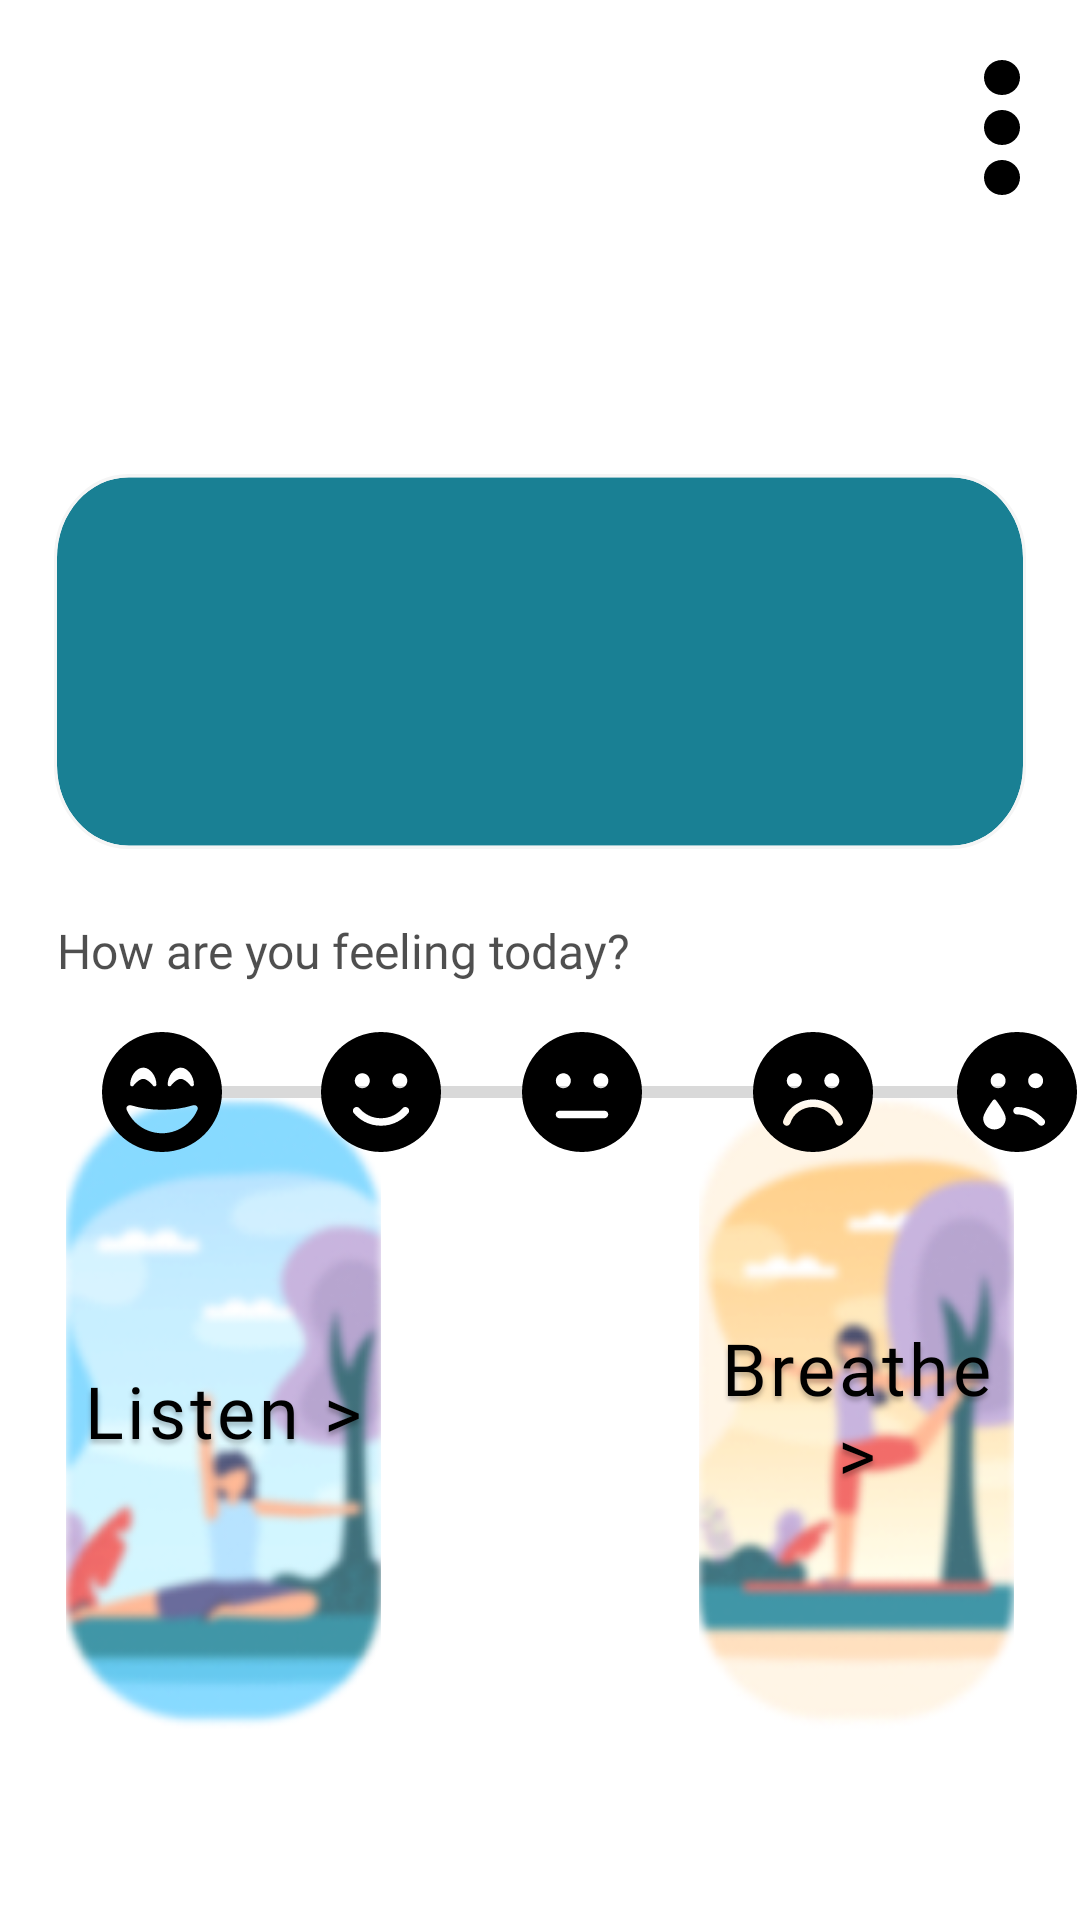

Named icons in this screenshot (1080w x 1920h) and their centers, point (x, y):
depressed emoji: point (1017, 1092)
happy emoji: point (381, 1092)
menu: point (1002, 127)
okay feeling emoji: point (582, 1092)
